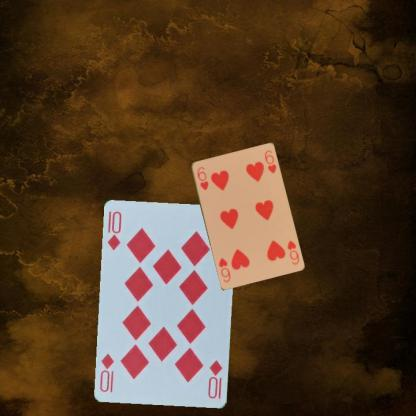10d: (105, 208, 123, 252), (206, 358, 224, 400)
6h: (284, 237, 300, 266), (194, 164, 210, 191)
